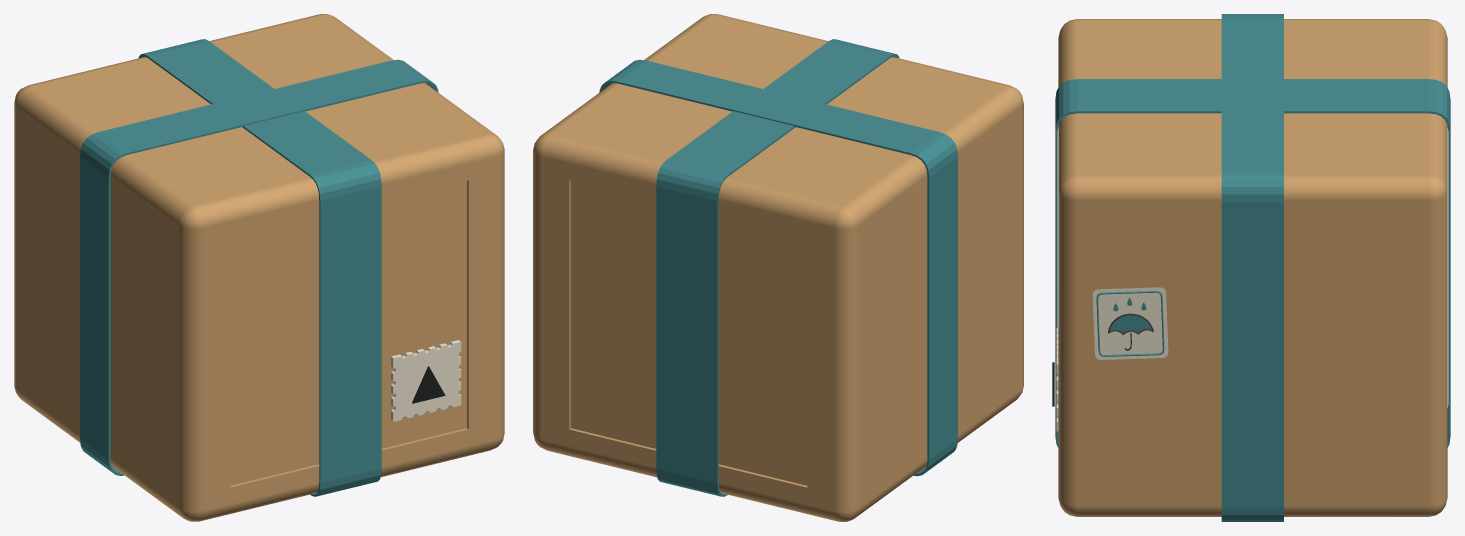
Rendered from play-parcel-small-teal.glb.
The picture shows the model from 3 angles, left to right: view 1: azimuth 30°, elevation 25°; view 2: azimuth 150°, elevation 25°; view 3: azimuth 270°, elevation 25°; orthographic projection. The views are drawn at different scales.
Parts seen in each view (by area): view 1: Parcel_Carton, Parcel_Tape_Continuous_Front_Back, Parcel_Tape_Continuous_Left_Right, Parcel_Paper_Label, Parcel_Label_Triangle; view 2: Parcel_Carton, Parcel_Tape_Continuous_Front_Back, Parcel_Tape_Continuous_Left_Right; view 3: Parcel_Carton, Parcel_Tape_Continuous_Left_Right, Parcel_Tape_Continuous_Front_Back, Parcel_Care_Keep_Dry_Paper, Parcel_Care_Keep_Dry_Border, Parcel_Care_Umbrella_Canopy.
Part boxes in pixels (x1,y1,x2,y2): Parcel_Carton: (14,14,504,521); Parcel_Tape_Continuous_Front_Back: (138,39,381,496); Parcel_Tape_Continuous_Left_Right: (80,59,438,475); Parcel_Paper_Label: (391,340,461,421); Parcel_Label_Triangle: (412,366,445,403); Parcel_Carton: (533,14,1023,521); Parcel_Tape_Continuous_Front_Back: (656,39,899,496); Parcel_Tape_Continuous_Left_Right: (599,59,957,476); Parcel_Carton: (1058,19,1447,516); Parcel_Tape_Continuous_Left_Right: (1221,14,1283,521); Parcel_Tape_Continuous_Front_Back: (1055,79,1450,447); Parcel_Care_Keep_Dry_Paper: (1092,287,1168,359); Parcel_Care_Keep_Dry_Border: (1096,291,1164,356); Parcel_Care_Umbrella_Canopy: (1109,315,1151,333).
Size of the model in its own units: 0.148 by 0.138 by 0.1431.
